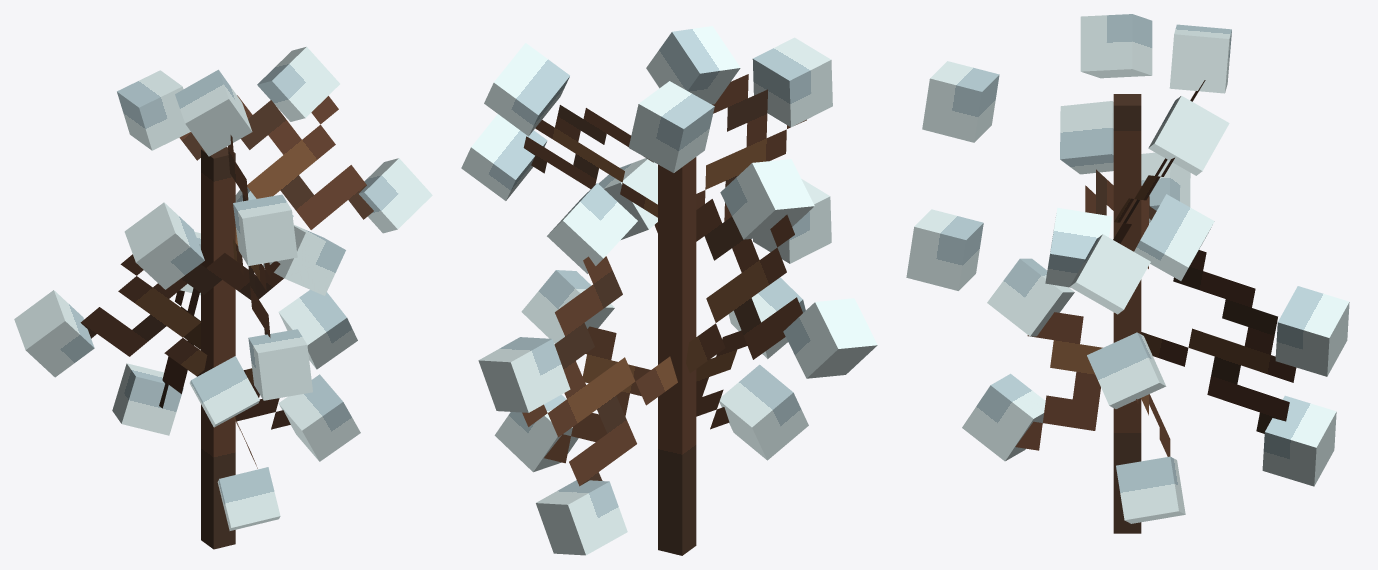
Rendered from cotton-stage4.gltf.
3 renders of one model, left to right at view 1: azimuth 30°, elevation 25°; view 2: azimuth 150°, elevation 25°; view 3: azimuth 270°, elevation 25°, orthographic. The views are drawn at different scales.
Visible parts, largest first — view 1: cube (×20); view 2: cube (×23); view 3: cube (×21).
Part boxes in pixels (<box>): cube (×20): <box>14,46,432,549</box>; cube (×23): <box>461,26,877,555</box>; cube (×21): <box>906,14,1349,533</box>.
Bounding box in the file's own units: 1.1 × 1.28 × 1.03.
Materials: 1 (1 with a texture image).
